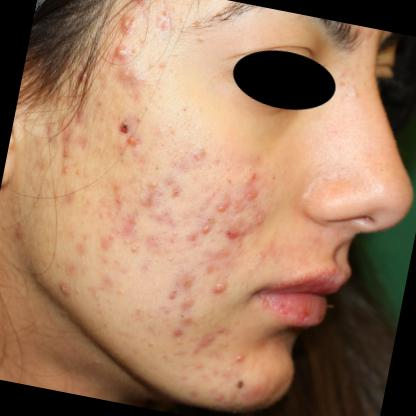Acne: (108, 110, 146, 154), (96, 36, 138, 68), (235, 173, 264, 216), (120, 229, 147, 266), (46, 158, 76, 190), (222, 345, 252, 376), (207, 271, 236, 302), (191, 212, 214, 247), (212, 188, 233, 222)
